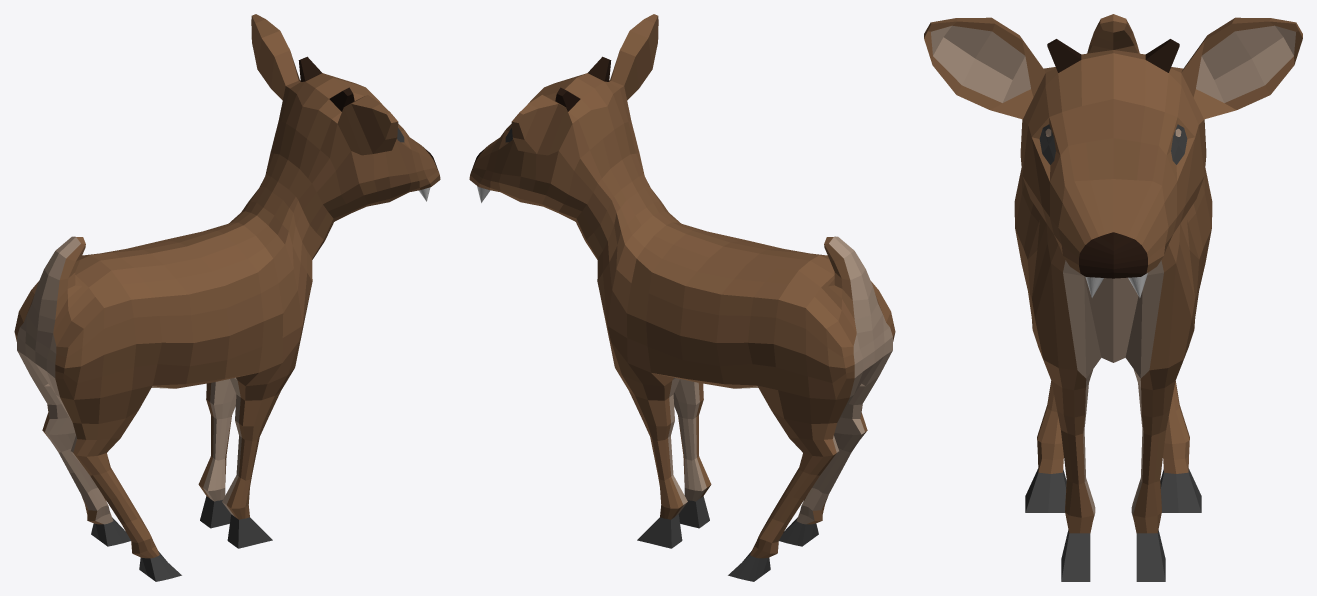
The model's file is Deer Low poly.glb.
3 renders of one model, left to right at view 1: azimuth 30°, elevation 25°; view 2: azimuth 150°, elevation 25°; view 3: azimuth 270°, elevation 25°, orthographic. The views are drawn at different scales.
Parts seen in each view (by area): view 1: New Deer; view 2: New Deer; view 3: New Deer.
Part boxes in pixels (box(x1,y1,x2,y2)): New Deer: box(14, 14, 440, 581); New Deer: box(469, 14, 895, 581); New Deer: box(924, 14, 1302, 581).
Size of the model in its own units: 1.4 by 1.5 by 0.8509.
